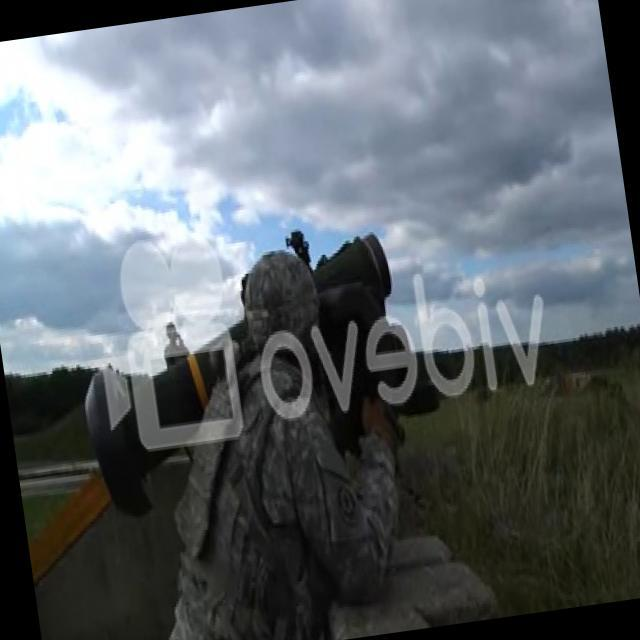rocket: (64, 232, 422, 510)
